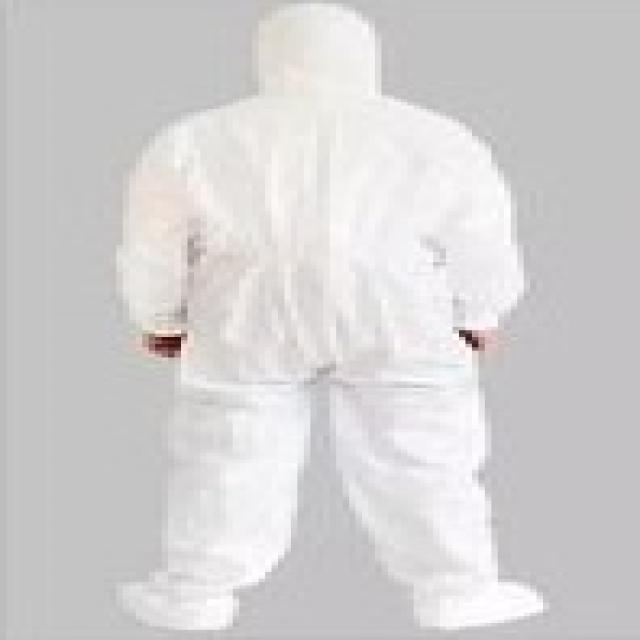Coverall: (7, 4, 614, 636)
